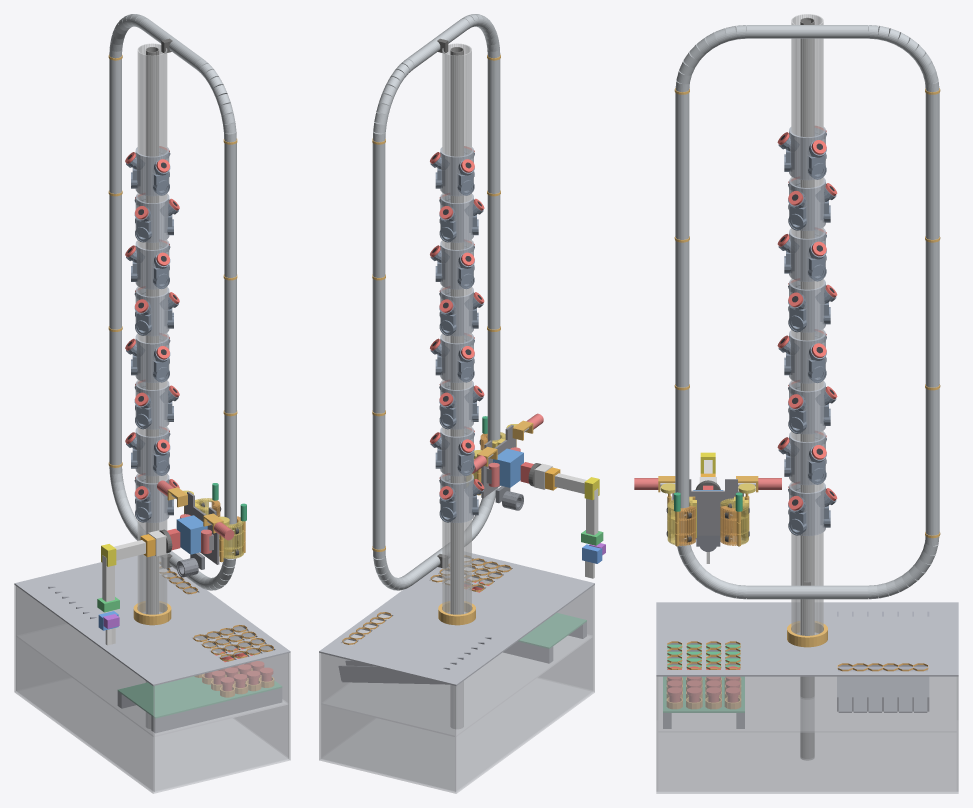
Rendered from reach-test-result-v2.glb.
3 views of the same model, side by side, from view 1: azimuth 30°, elevation 25°; view 2: azimuth 150°, elevation 25°; view 3: azimuth 270°, elevation 25° (orthographic). The views are drawn at different scales.
Bounding box in the file's own units: 0.483 × 1.9 × 0.751.
